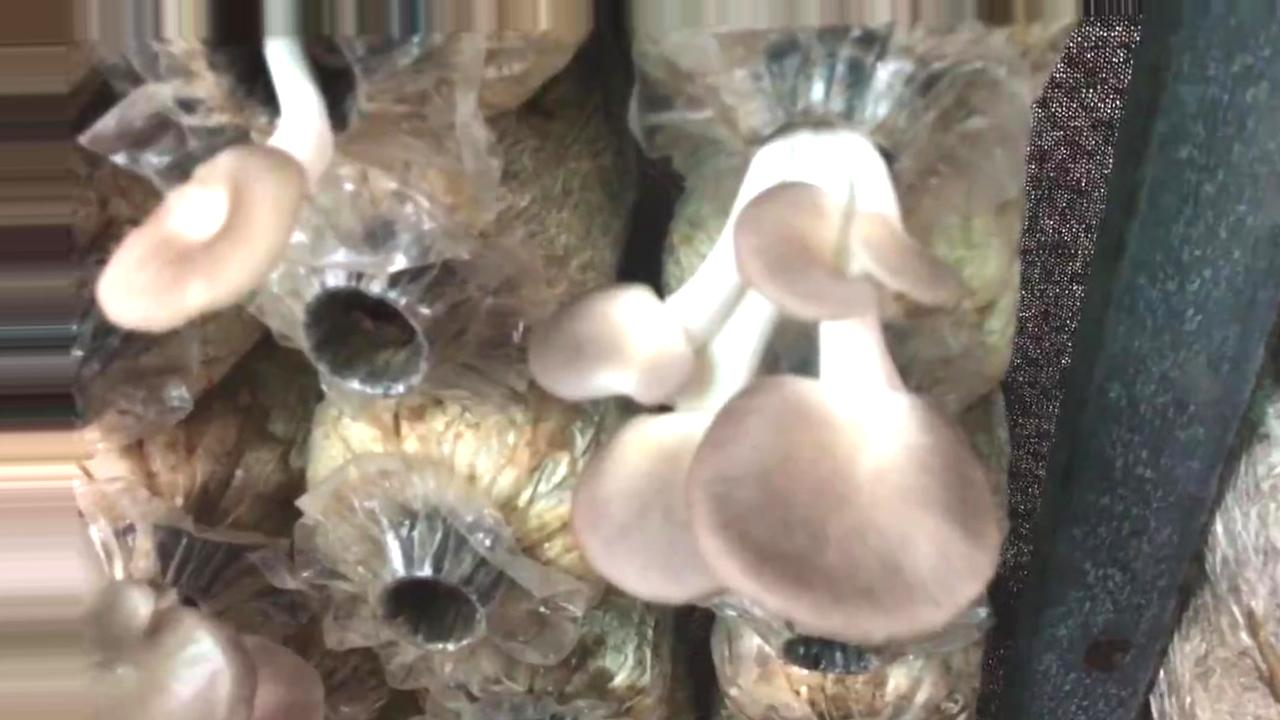nam: (527, 64, 999, 637), (95, 1, 360, 335)
